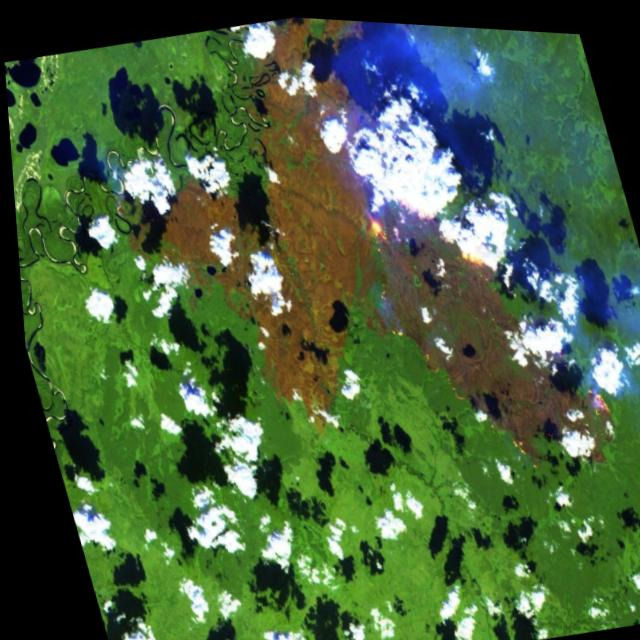fire: (335, 120, 623, 492)
